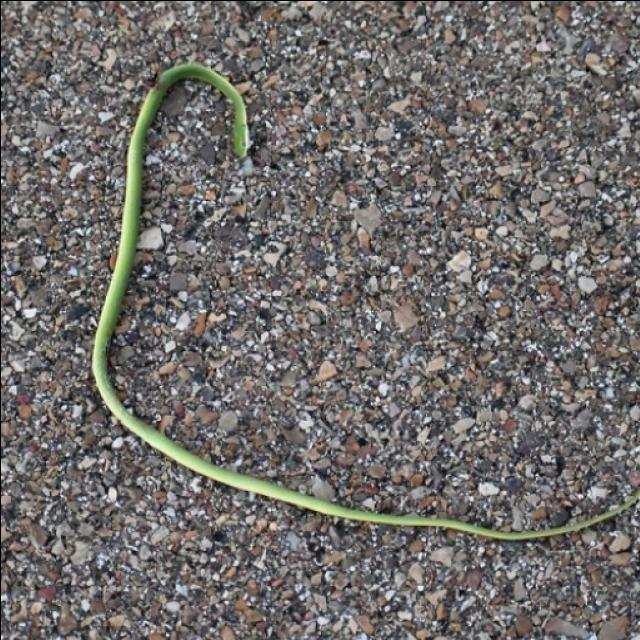snake: (76, 52, 626, 566)
